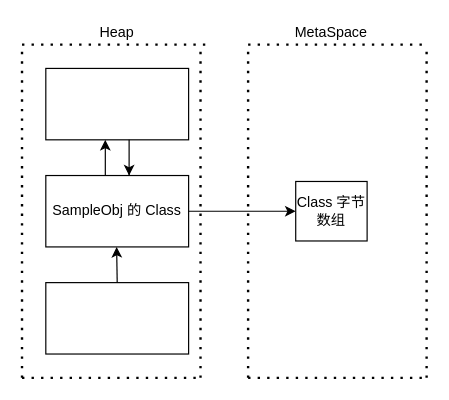
The diagram is 449 pixels wide and 400 high, and some of its shapes have lost their labels. The shapes that lost their labels are listed below. From the top down, each one's centre as x and y in pixels, then its label:
At point 117,103: "SampleObj 的 ClassLoader".
At point 117,317: "SampleObj 的实例".
